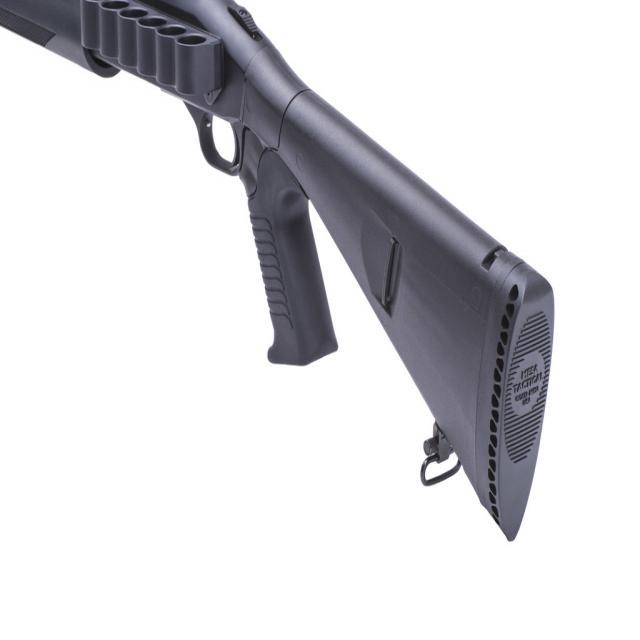weapon: (7, 0, 554, 539)
